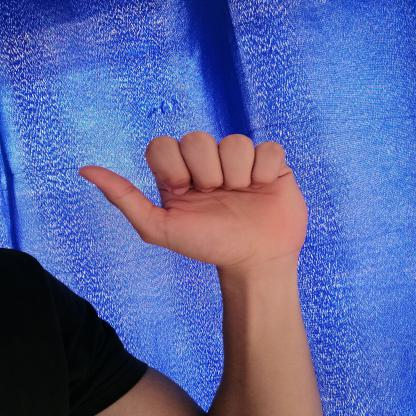DAD: (65, 122, 317, 276)
